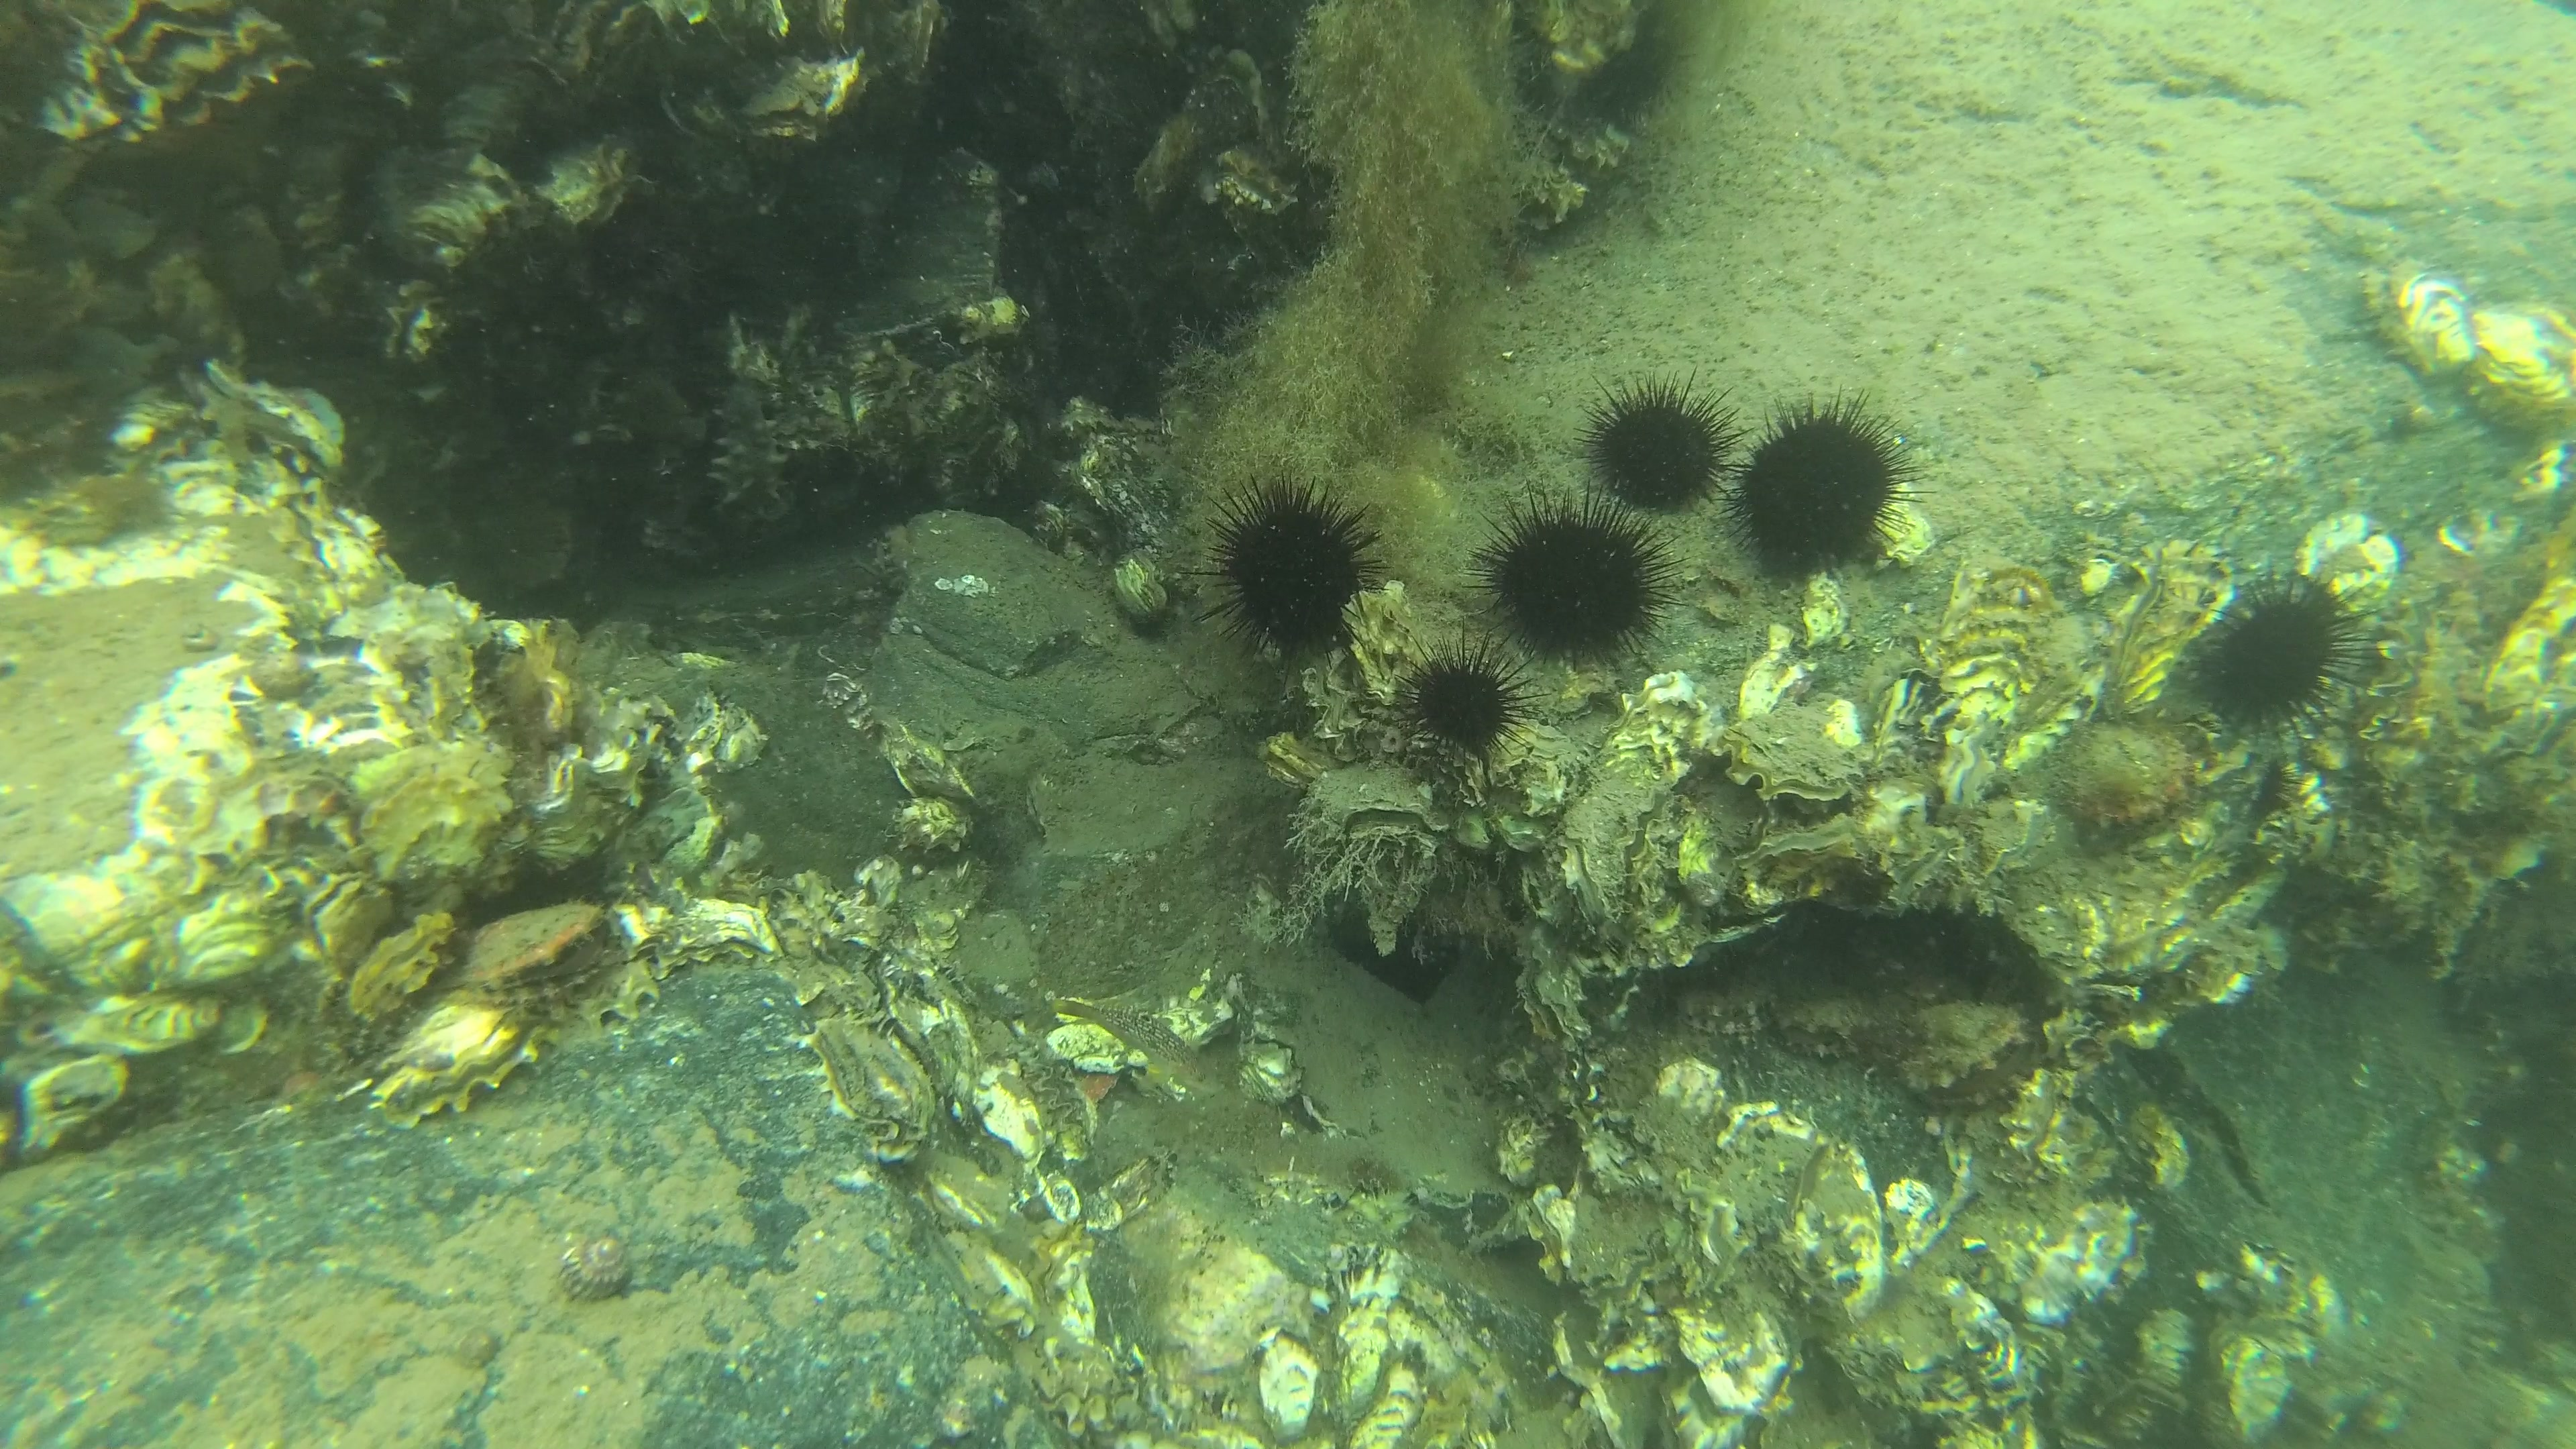echinus: (1460, 494, 1679, 679), (2174, 556, 2385, 731), (1734, 389, 1927, 580), (1198, 467, 1387, 660), (1580, 363, 1743, 513), (1396, 637, 1548, 789)
